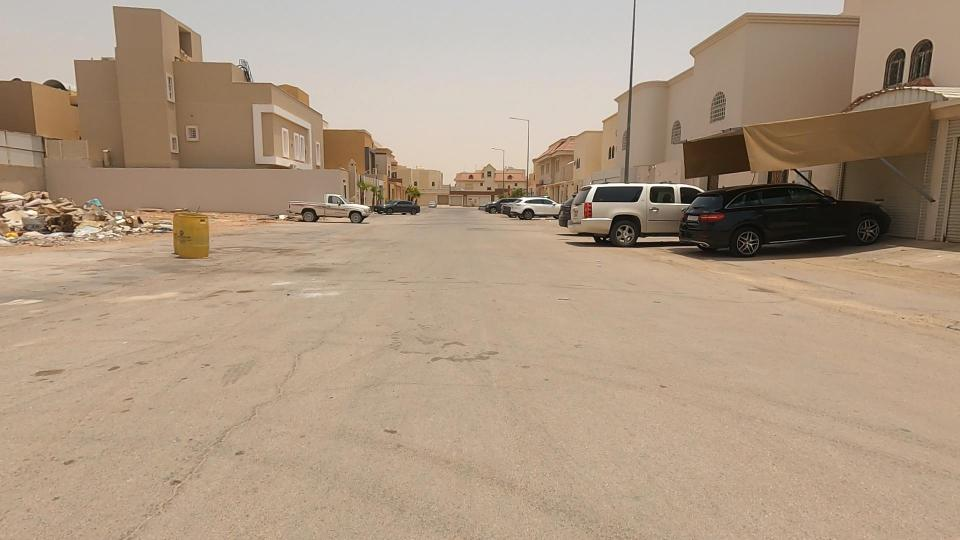GARBAGE: (0, 171, 109, 233), (101, 191, 191, 252), (232, 198, 328, 239), (46, 202, 125, 251), (0, 196, 61, 257), (66, 174, 120, 230)
